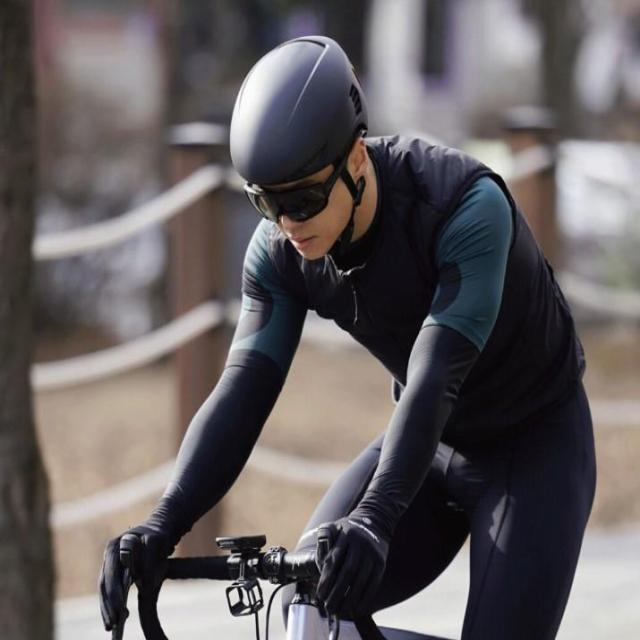Helmet: (228, 32, 372, 265)
